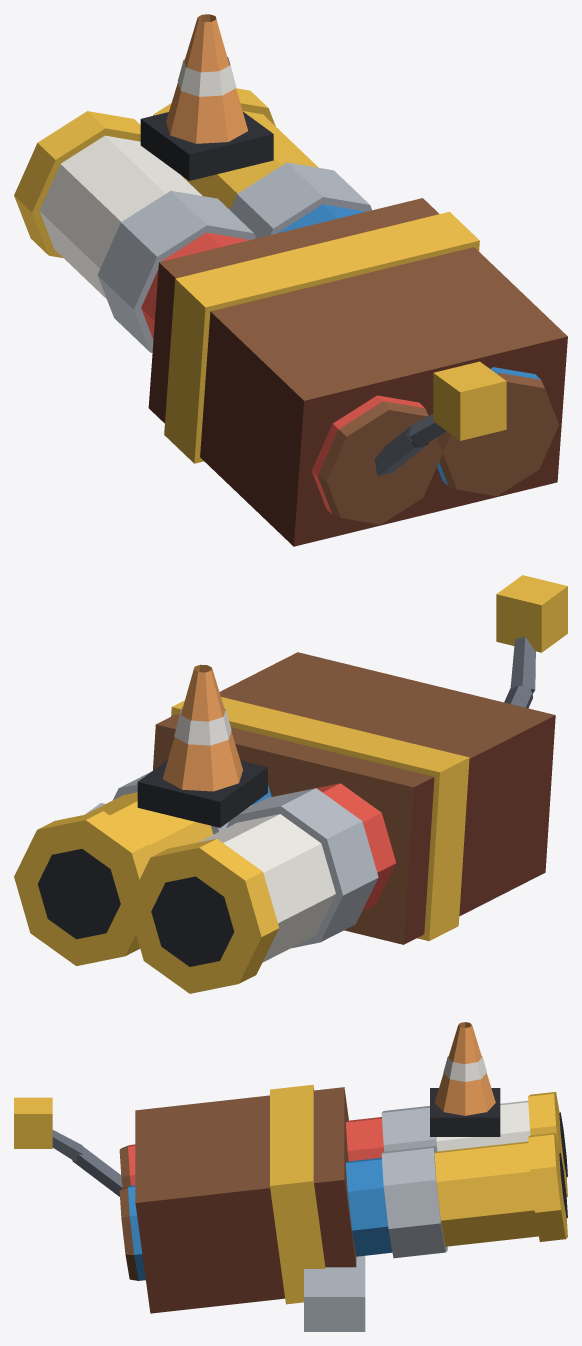
The model's file is G_Firework_4.fbx.
The picture shows the model from 3 angles, top to bottom: view 1: azimuth 30°, elevation 25°; view 2: azimuth 150°, elevation 25°; view 3: azimuth 270°, elevation 25°; orthographic projection. The views are drawn at different scales.
Parts seen in each view (by area): view 1: G_Firework_4; view 2: G_Firework_4; view 3: G_Firework_4.
Boxes of the visible parts, x1,y1,x2,y2 form: G_Firework_4: (14,14,567,546); G_Firework_4: (14,575,567,993); G_Firework_4: (14,1022,567,1331).
Bounding box in the file's own units: 0.4522 × 0.4112 × 0.8522.
